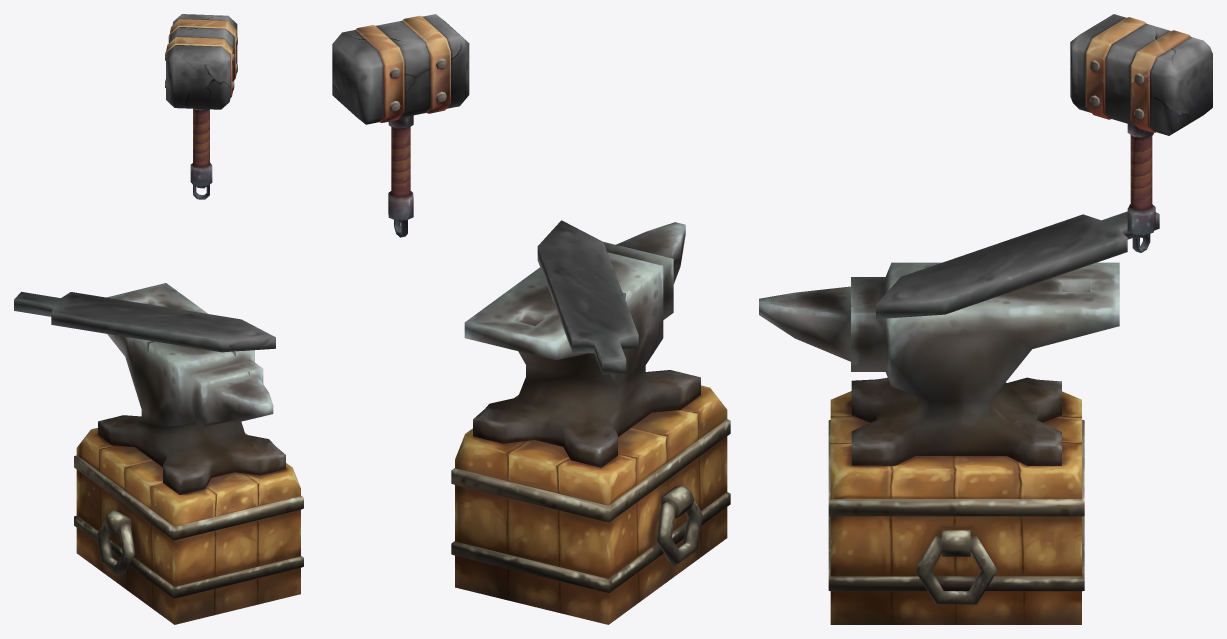
File: anvil.glb
3 views of the same model, side by side, from view 1: azimuth 30°, elevation 25°; view 2: azimuth 150°, elevation 25°; view 3: azimuth 270°, elevation 25° (orthographic). The views are drawn at different scales.
Visible parts, largest first — view 1: anvil, blade, hammer; view 2: anvil, hammer, blade; view 3: anvil, hammer, blade.
Part boxes in pixels (x1,y1,x2,y2): anvil: (74,283,303,624); blade: (14,292,275,352); hammer: (165,14,237,199); anvil: (451,222,730,624); hammer: (332,14,469,237); blade: (537,220,638,374); anvil: (759,262,1119,624); hammer: (1070,14,1212,252); blade: (876,211,1159,319).
Size of the model in its own units: 1.93 by 3.74 by 2.56.
3 materials, 3 textured.
